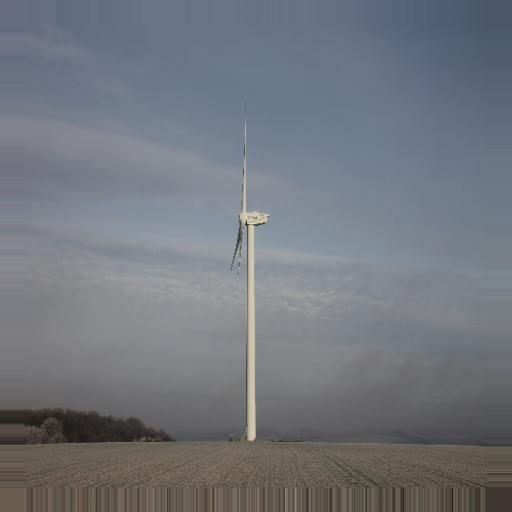wind turbine: (229, 94, 270, 443)
